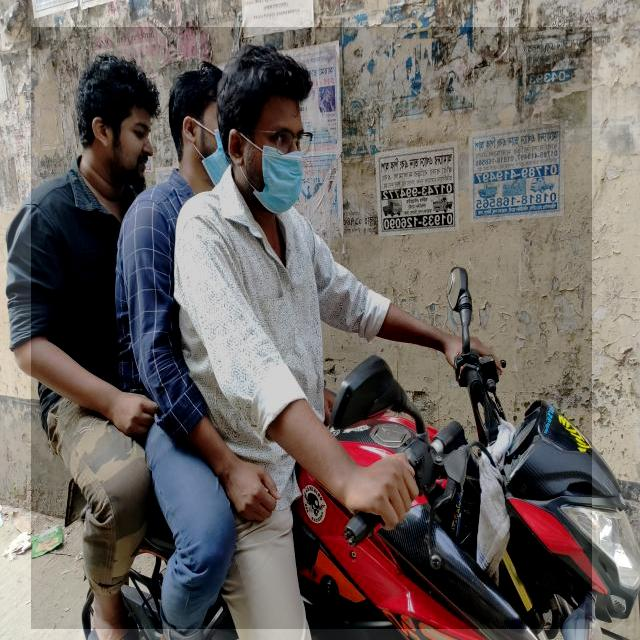Overloading: (31, 28, 592, 630)
